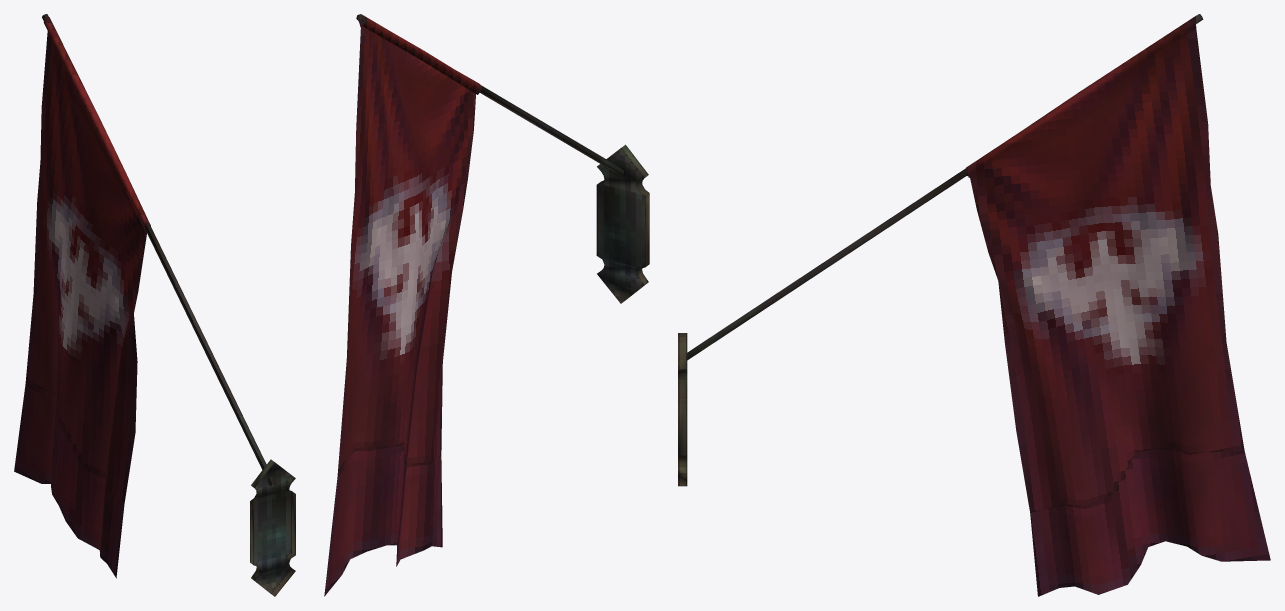
Rendered from SM_Flag01.FBX.
3 renders of one model, left to right at view 1: azimuth 30°, elevation 25°; view 2: azimuth 150°, elevation 25°; view 3: azimuth 270°, elevation 25°, orthographic. The views are drawn at different scales.
Visible parts, largest first — view 1: SM_Flag01; view 2: SM_Flag01; view 3: SM_Flag01.
Boxes of the visible parts, bbox=[...] form: SM_Flag01: bbox=[14, 14, 295, 596]; SM_Flag01: bbox=[324, 14, 649, 596]; SM_Flag01: bbox=[678, 14, 1270, 596].
Size of what is drawn, in the model's own units: 25.08 by 271 by 294.
